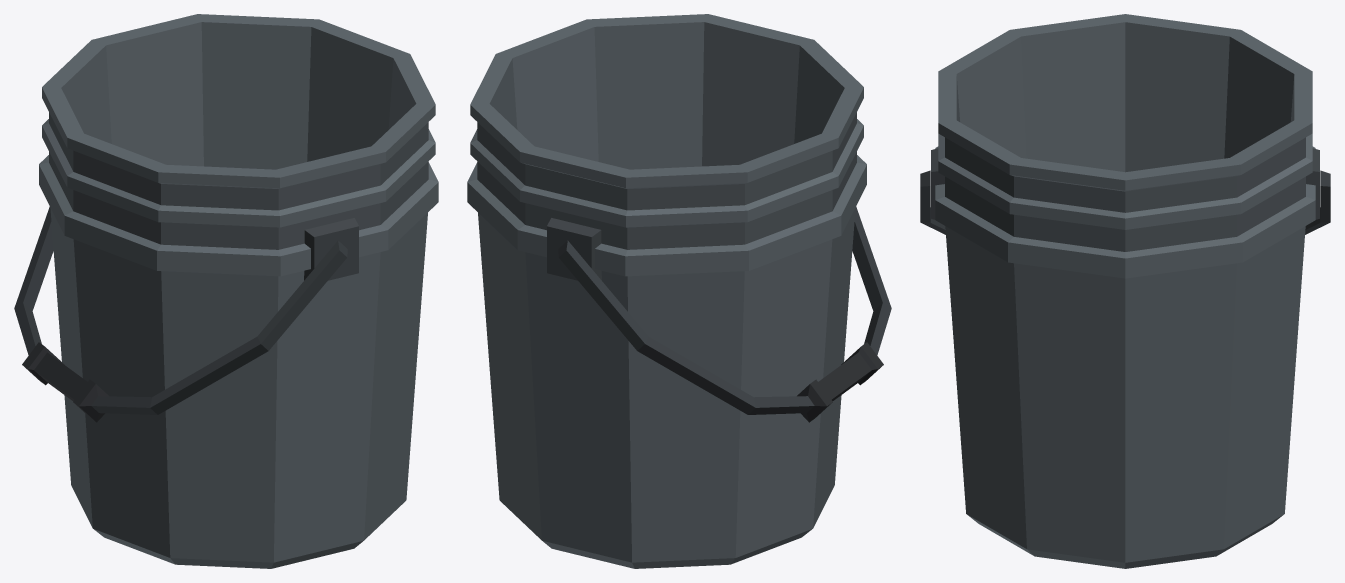
Rendered from SM_Prop_Bucket_02.fbx.
3 renders of one model, left to right at view 1: azimuth 30°, elevation 25°; view 2: azimuth 150°, elevation 25°; view 3: azimuth 270°, elevation 25°, orthographic.
Parts seen in each view (by area): view 1: SM_Prop_Bucket_02; view 2: SM_Prop_Bucket_02; view 3: SM_Prop_Bucket_02.
Part boxes in pixels (bbox=[...]): SM_Prop_Bucket_02: bbox=[14, 14, 438, 568]; SM_Prop_Bucket_02: bbox=[467, 14, 891, 568]; SM_Prop_Bucket_02: bbox=[920, 14, 1330, 568].
Bounding box in the file's own units: 47.59 × 51.29 × 46.94.
Materials: 1 (1 with a texture image).
